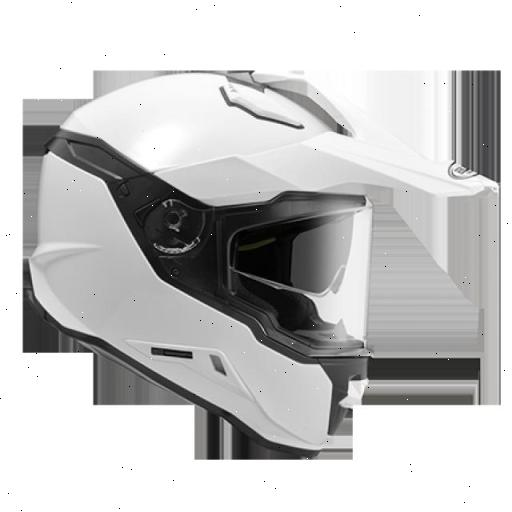Helmet: (30, 73, 488, 455)
